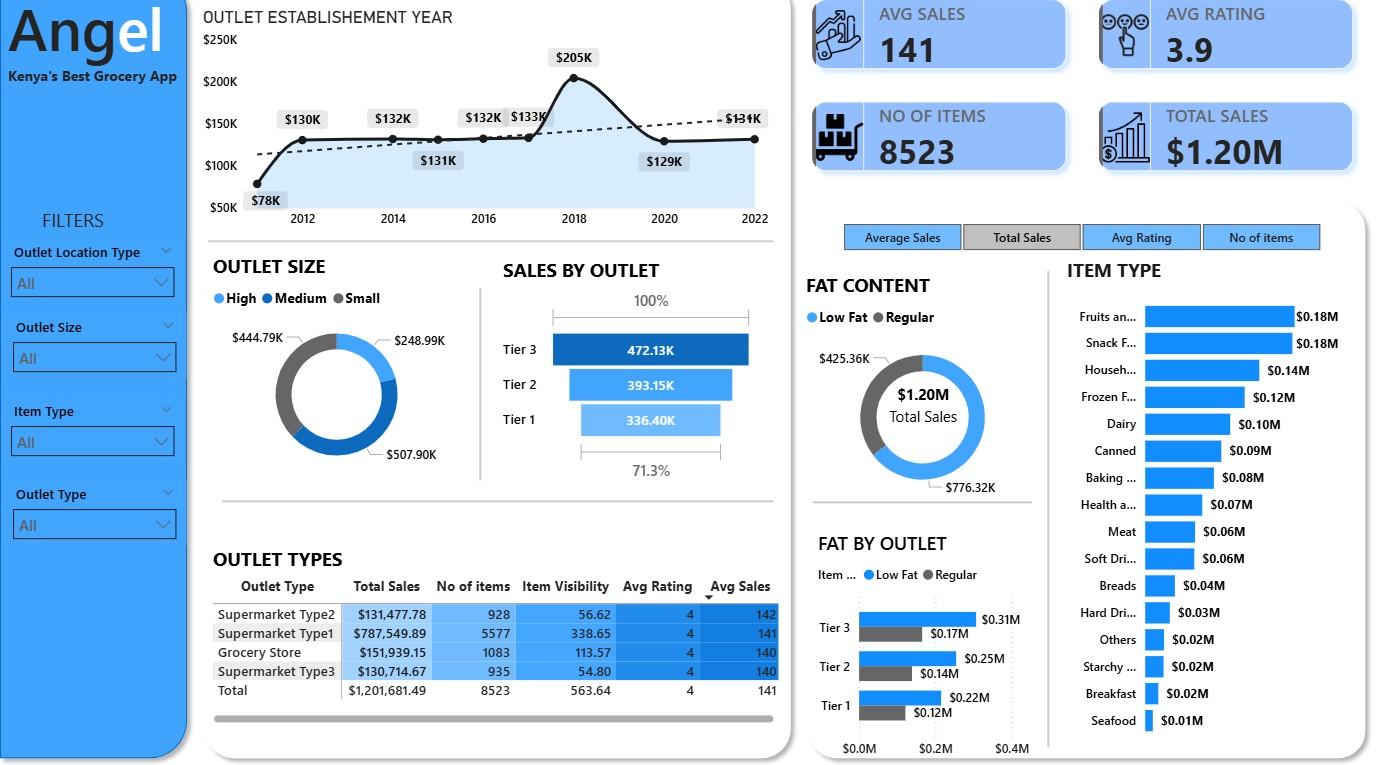

The page's visual inventory and layout, read from the dashboard file:
{"tool":"powerbi","page":{"name":"Page 1","canvas":[1400,800],"ordinal":0},"visuals":[{"type":"shape","box":[10.2,0,204.5,800.4],"z":0},{"type":"textbox","box":[21.6,17.8,193.1,114.3],"z":1000},{"type":"cardVisual","fields":{"Data":["BlinkIT Grocery Data.Average Sales","BlinkIT Grocery Data.Avg Rating","BlinkIT Grocery Data.No of items","BlinkIT Grocery Data.Total Sales"]},"box":[800.4,5.1,598.4,231.2],"z":2000},{"type":"shape","box":[816.9,227.4,573,573],"z":3000},{"type":"donutChart","title":"FAT CONTENT ","fields":{"Y":["BlinkIT Grocery Data.Total Sales"],"Category":["BlinkIT Grocery Data.Item Fat Content"]},"box":[818.1,306.2,242.6,236.3],"z":4000},{"type":"slicer","fields":{"Values":["Metrics.Metrics"]},"box":[834.7,251.5,524.7,39.4],"z":5000},{"type":"cardVisual","fields":{"Data":["BlinkIT Grocery Data.Total Sales"]},"box":[866.4,381.1,146.1,115.6],"z":5001},{"type":"shape","box":[214.7,5.1,602.2,795.3],"z":5002},{"type":"clusteredBarChart","title":"FAT BY OUTLET ","fields":{"Category":["BlinkIT Grocery Data.Outlet Location Type"],"Y":["BlinkIT Grocery Data.Total Sales"],"Series":["BlinkIT Grocery Data.Item Fat Content"]},"box":[829.6,564.1,229.9,236.3],"z":5003},{"type":"shape","box":[829.6,520.9,218.5,30.5],"z":5004},{"type":"shape","box":[1049.4,304.9,30.5,475.1],"z":5005},{"type":"barChart","title":"ITEM TYPE","fields":{"Category":["BlinkIT Grocery Data.Item Type"],"Y":["BlinkIT Grocery Data.Total Sales"]},"box":[1078.6,290.9,280.8,489.1],"z":5006},{"type":"lineChart","title":"OUTLET ESTABLISHEMENT YEAR ","fields":{"Y":["BlinkIT Grocery Data.Total Sales"],"Category":["BlinkIT Grocery Data.Outlet Establishment Year"]},"box":[216,41.9,574.2,229.9],"z":5007},{"type":"shape","box":[226.1,260.4,564.1,30.5],"z":5008},{"type":"donutChart","title":"OUTLET SIZE ","fields":{"Y":["BlinkIT Grocery Data.Total Sales"],"Series":["BlinkIT Grocery Data.Outlet Size"]},"box":[226.1,287.1,256.6,228.7],"z":5009},{"type":"shape","box":[482.8,322.7,30.5,191.8],"z":5010},{"type":"shape","box":[240.1,519.6,550.1,30.5],"z":5011},{"type":"funnel","title":"SALES BY OUTLET ","fields":{"Y":["Sum(BlinkIT Grocery Data.Sales)"],"Category":["BlinkIT Grocery Data.Outlet Location Type"]},"box":[515.8,290.9,260,230],"z":5012},{"type":"pivotTable","title":"OUTLET TYPES ","fields":{"Values":["BlinkIT Grocery Data.Total Sales","BlinkIT Grocery Data.No of items","Sum(BlinkIT Grocery Data.Item Visibility)","BlinkIT Grocery Data.Avg Rating","BlinkIT Grocery Data.Average Sales"],"Rows":["BlinkIT Grocery Data.Outlet Type"]},"box":[226.1,579.3,574.2,181.7],"z":5013},{"type":"slicer","fields":{"Values":["BlinkIT Grocery Data.Outlet Location Type"]},"box":[20.3,271.9,182.9,66.1],"z":5014},{"type":"slicer","fields":{"Values":["BlinkIT Grocery Data.Outlet Size"]},"box":[21.6,346.8,182.9,66.1],"z":5015},{"type":"slicer","fields":{"Values":["BlinkIT Grocery Data.Item Type"]},"box":[20.3,430.7,182.9,66.1],"z":5016},{"type":"slicer","fields":{"Values":["BlinkIT Grocery Data.Outlet Type"]},"box":[21.6,513.2,182.9,66.1],"z":5017},{"type":"textbox","box":[55.9,236.3,86.4,35.6],"z":5018}]}

Visuals, with their boxes on the page's 1400x800 design canvas (x1, y1, x2, y2). These are canvas units, not pixel positions in the 1381x765 screenshot, which may show the page scaled, cropped or inside an application window:
shape: [x1=10, y1=0, x2=215, y2=800]
textbox: [x1=22, y1=18, x2=215, y2=132]
cardVisual - BlinkIT Grocery Data.Average Sales x BlinkIT Grocery Data.Avg Rating: [x1=800, y1=5, x2=1399, y2=236]
shape: [x1=817, y1=227, x2=1390, y2=800]
"FAT CONTENT " donutChart: [x1=818, y1=306, x2=1061, y2=542]
slicer - Metrics.Metrics: [x1=835, y1=252, x2=1359, y2=291]
cardVisual - BlinkIT Grocery Data.Total Sales: [x1=866, y1=381, x2=1012, y2=497]
shape: [x1=215, y1=5, x2=817, y2=800]
"FAT BY OUTLET " clusteredBarChart: [x1=830, y1=564, x2=1060, y2=800]
shape: [x1=830, y1=521, x2=1048, y2=551]
shape: [x1=1049, y1=305, x2=1080, y2=780]
"ITEM TYPE" barChart: [x1=1079, y1=291, x2=1359, y2=780]
"OUTLET ESTABLISHEMENT YEAR " lineChart: [x1=216, y1=42, x2=790, y2=272]
shape: [x1=226, y1=260, x2=790, y2=291]
"OUTLET SIZE " donutChart: [x1=226, y1=287, x2=483, y2=516]
shape: [x1=483, y1=323, x2=513, y2=514]
shape: [x1=240, y1=520, x2=790, y2=550]
"SALES BY OUTLET " funnel: [x1=516, y1=291, x2=776, y2=521]
"OUTLET TYPES " pivotTable: [x1=226, y1=579, x2=800, y2=761]
slicer - BlinkIT Grocery Data.Outlet Location Type: [x1=20, y1=272, x2=203, y2=338]
slicer - BlinkIT Grocery Data.Outlet Size: [x1=22, y1=347, x2=204, y2=413]
slicer - BlinkIT Grocery Data.Item Type: [x1=20, y1=431, x2=203, y2=497]
slicer - BlinkIT Grocery Data.Outlet Type: [x1=22, y1=513, x2=204, y2=579]
textbox: [x1=56, y1=236, x2=142, y2=272]
